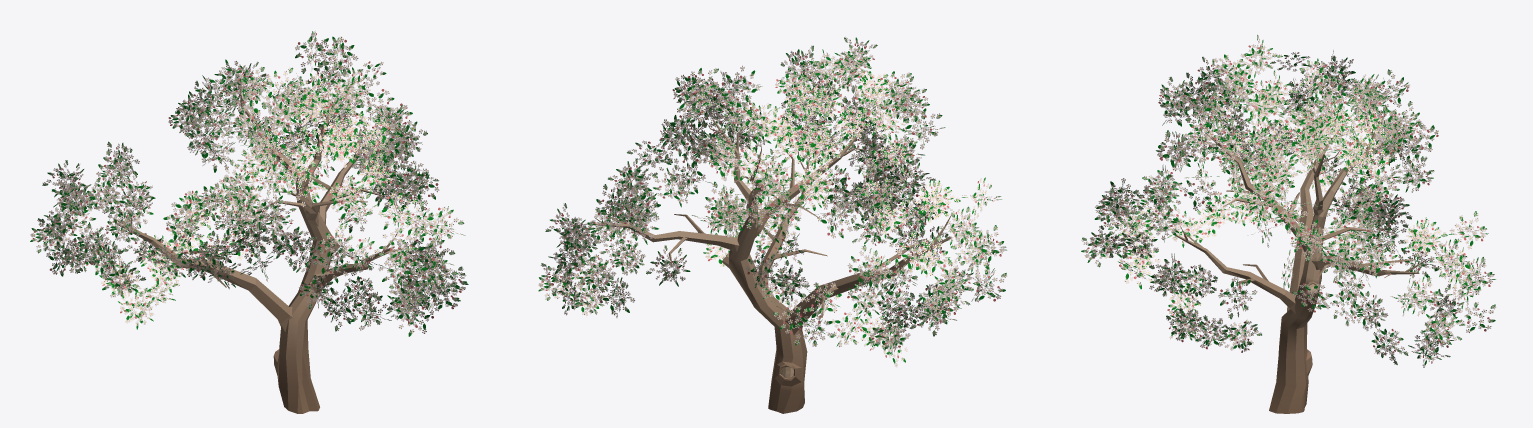
Rendered from treeFlowers.fbx.
3 views of the same model, side by side, from view 1: azimuth 30°, elevation 25°; view 2: azimuth 150°, elevation 25°; view 3: azimuth 270°, elevation 25° (orthographic). The views are drawn at different scales.
Visible parts, largest first — view 1: PT_Fruit_Tree_01_flowers; view 2: PT_Fruit_Tree_01_flowers; view 3: PT_Fruit_Tree_01_flowers.
Boxes of the visible parts, bbox=[...] form: PT_Fruit_Tree_01_flowers: bbox=[30, 30, 468, 413]; PT_Fruit_Tree_01_flowers: bbox=[538, 37, 1006, 413]; PT_Fruit_Tree_01_flowers: bbox=[1081, 35, 1496, 413].
Size of the model in its own units: 66.1 by 51.88 by 60.17.
